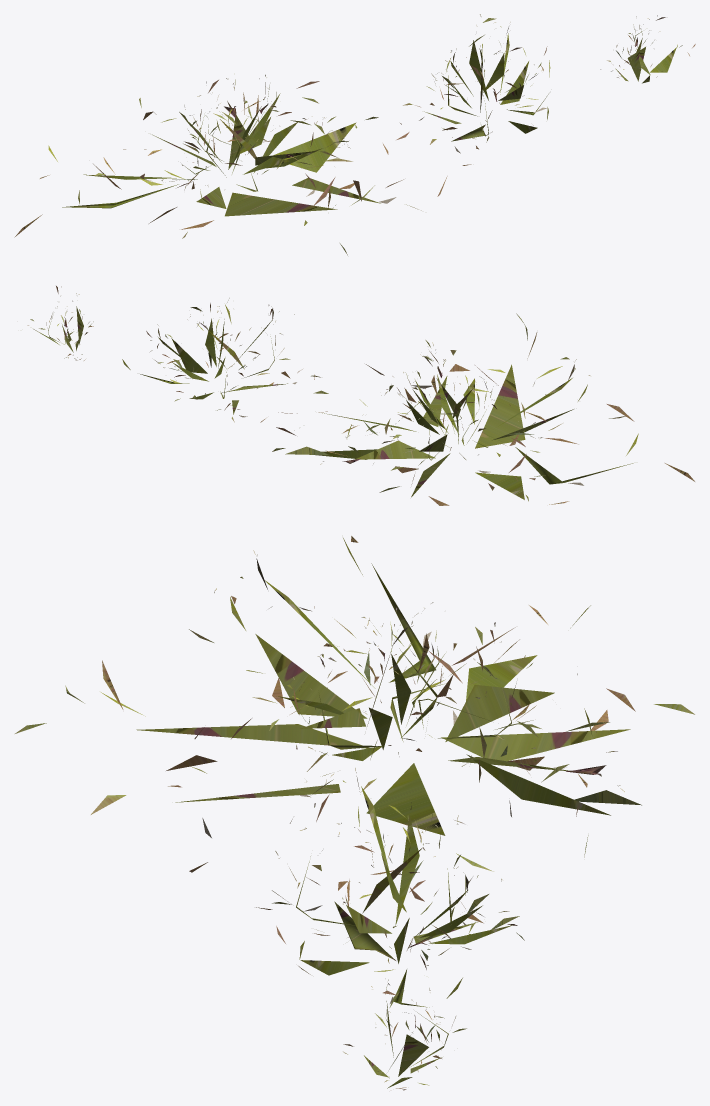
Rendered from flower_heliophila.glb.
3 renders of one model, top to bottom at view 1: azimuth 30°, elevation 25°; view 2: azimuth 150°, elevation 25°; view 3: azimuth 270°, elevation 25°, orthographic. The views are drawn at different scales.
Visible parts, largest first — view 1: flower_heliophila; view 2: flower_heliophila; view 3: flower_heliophila.
Boxes of the visible parts, bbox=[...] form: flower_heliophila: bbox=[14, 14, 695, 255]; flower_heliophila: bbox=[27, 286, 694, 505]; flower_heliophila: bbox=[15, 536, 694, 1090].
Size of the model in its own units: 2.12 by 0.3 by 1.08.
1 material, 1 textured.
